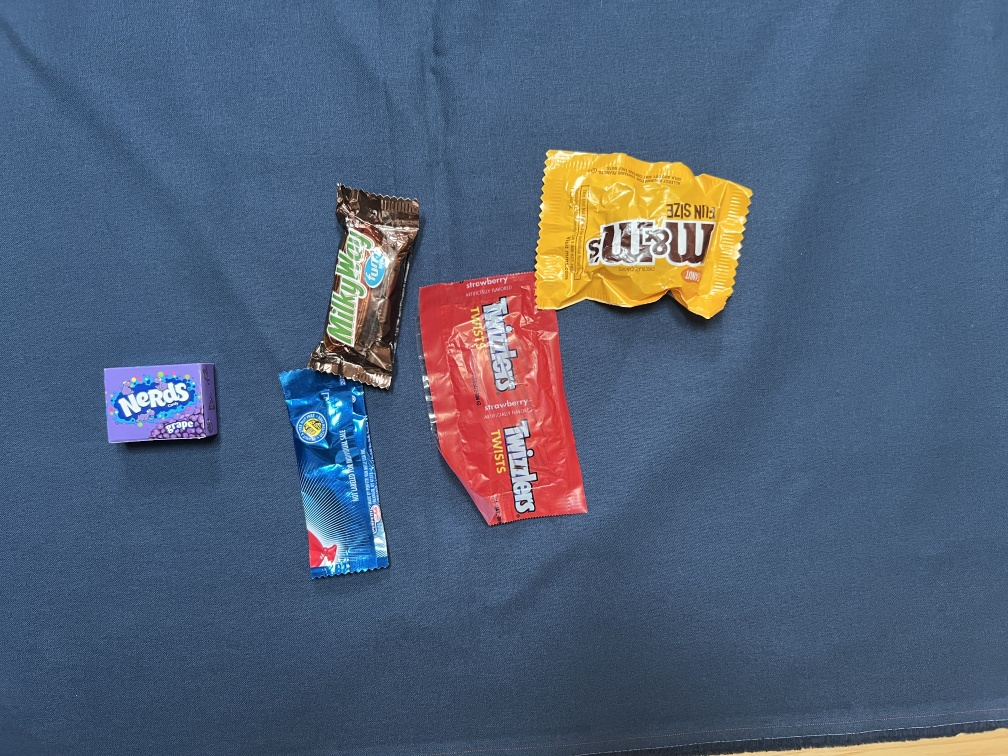MMs_regular: (528, 136, 756, 330)
airheads: (267, 360, 407, 580)
milky_way: (318, 172, 420, 390)
nerds: (92, 357, 222, 450)
twizzlers: (415, 261, 605, 519)
